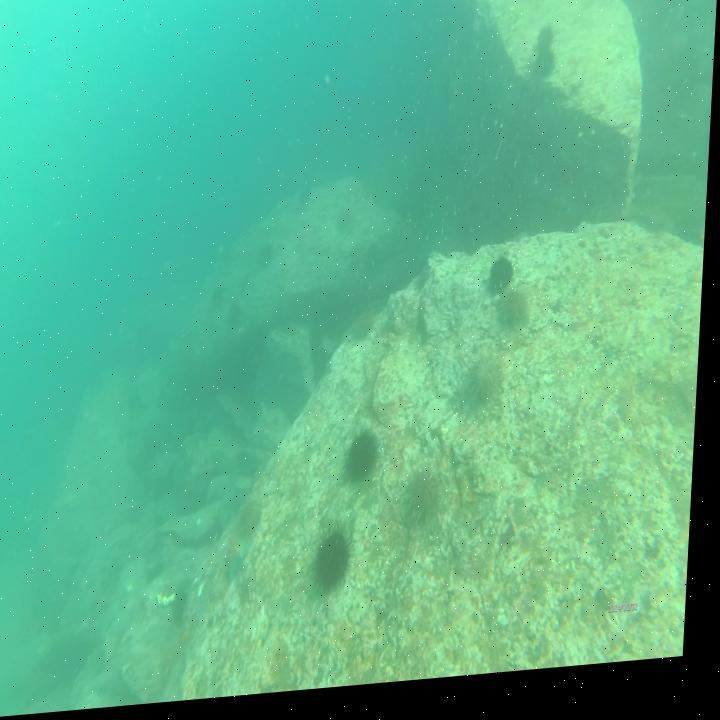echinus: (404, 465, 452, 534), (467, 357, 514, 410), (323, 531, 355, 596), (353, 429, 383, 491), (501, 295, 533, 340), (490, 264, 520, 303), (297, 192, 318, 224), (335, 211, 358, 239), (229, 303, 246, 335), (260, 246, 277, 277), (534, 64, 553, 91), (537, 35, 554, 59)
starfish: (223, 536, 255, 592)
